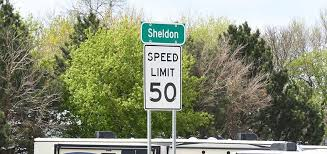speedLimit50: (141, 43, 178, 110)
